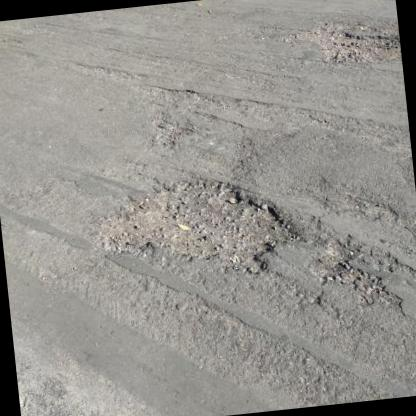pothole: (82, 159, 306, 294), (277, 9, 401, 73), (300, 234, 364, 284), (146, 116, 196, 149)
